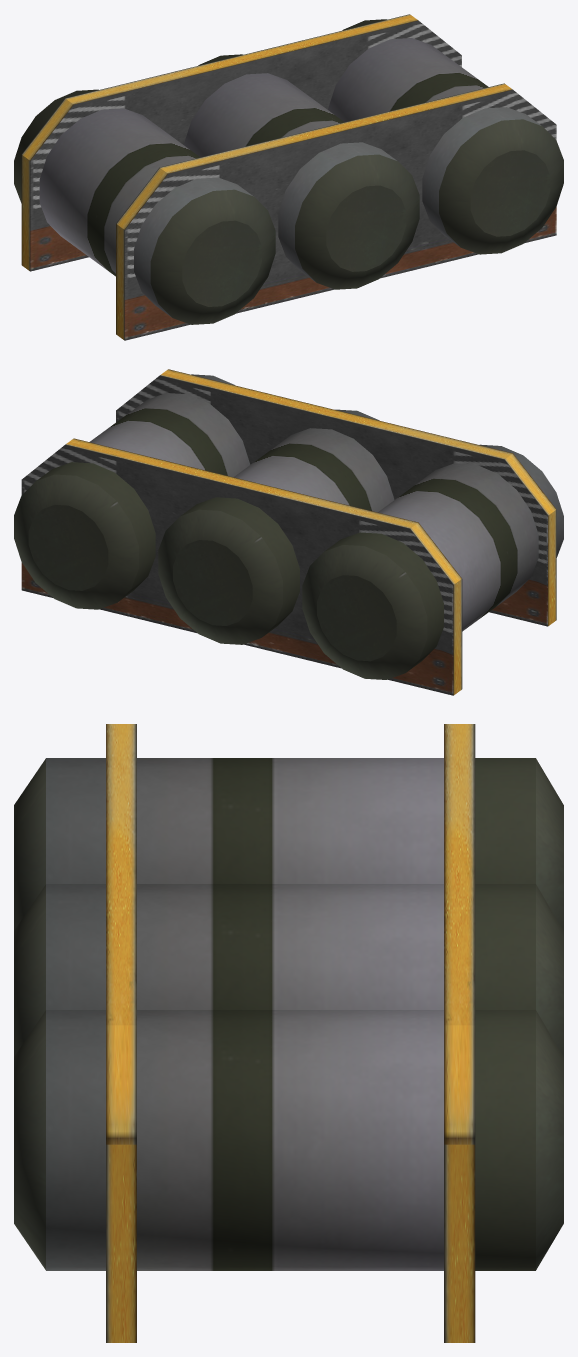
The model's file is Canisters_04.fbx.
3 renders of one model, top to bottom at view 1: azimuth 30°, elevation 25°; view 2: azimuth 150°, elevation 25°; view 3: azimuth 270°, elevation 25°, orthographic. The views are drawn at different scales.
Parts seen in each view (by area): view 1: Canisters_04; view 2: Canisters_04; view 3: Canisters_04.
Part boxes in pixels (x1,y1,x2,y2): Canisters_04: (14, 14, 563, 340); Canisters_04: (14, 369, 563, 695); Canisters_04: (14, 724, 563, 1342).
Bounding box in the file's own units: 106 × 36.59 × 65.2.
